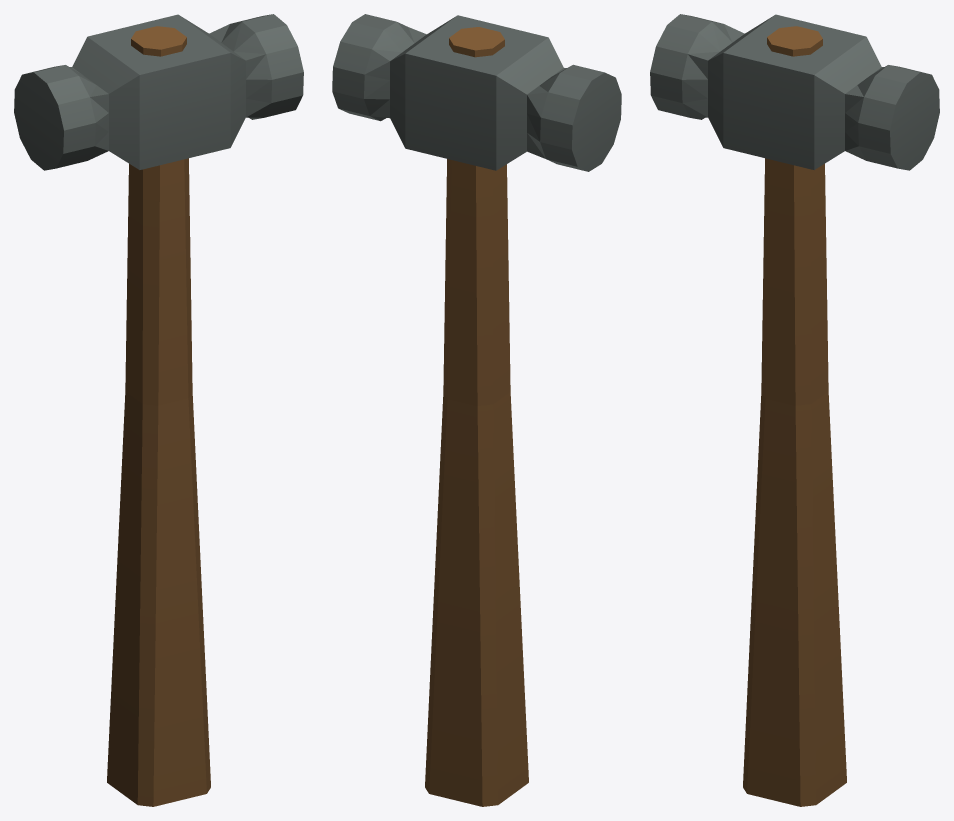
Rendered from Tool_Hammer_03.obj.
3 views of the same model, side by side, from view 1: azimuth 30°, elevation 25°; view 2: azimuth 150°, elevation 25°; view 3: azimuth 330°, elevation 25° (orthographic).
Parts seen in each view (by area): view 1: Tool_Hammer_03; view 2: Tool_Hammer_03; view 3: Tool_Hammer_03.
Part boxes in pixels (<box>): Tool_Hammer_03: <box>14,14,303,806</box>; Tool_Hammer_03: <box>332,14,621,806</box>; Tool_Hammer_03: <box>650,14,939,806</box>.
Size of the model in its own units: 0.1053 by 0.3132 by 0.0399.
Materials: 1 (1 with a texture image).
